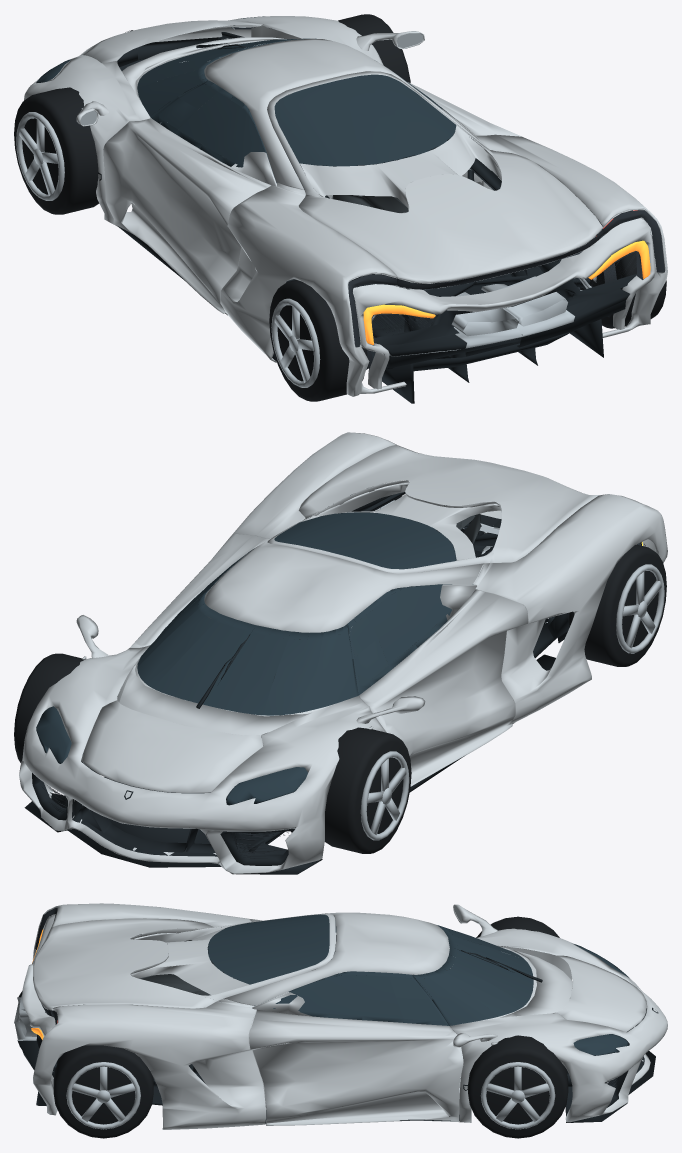
The model's file is sportscar-hero.glb.
3 renders of one model, top to bottom at view 1: azimuth 30°, elevation 25°; view 2: azimuth 150°, elevation 25°; view 3: azimuth 270°, elevation 25°, orthographic. The views are drawn at different scales.
Visible parts, largest first — view 1: Paint, Glass, Carbon, Rubber, Rubber.001, Metal, Trim, Metal.001, Metal.002, Rubber.002, Signal, Rubber.003 (+1 smaller); view 2: Paint, Glass, Carbon, Rubber, Rubber.001, Metal.002, Metal.001, Rubber.002, Trim; view 3: Paint, Glass, Rubber.002, Rubber.003, Carbon, Metal.003, Metal.004, Rubber, Metal, Interior, Trim.
Boxes of the visible parts, box(x1,y1,x2,y2) form: Paint: box(24, 16, 667, 396); Glass: box(36, 16, 456, 182); Carbon: box(98, 30, 639, 403); Rubber: box(14, 87, 105, 214); Rubber.001: box(269, 280, 367, 401); Metal: box(80, 25, 596, 356); Trim: box(108, 27, 664, 369); Metal.001: box(16, 112, 64, 200); Metal.002: box(271, 298, 320, 387); Rubber.002: box(338, 14, 410, 82); Signal: box(363, 240, 650, 344); Rubber.003: box(580, 210, 666, 328); Paint: box(19, 432, 667, 874); Glass: box(36, 512, 473, 805); Carbon: box(24, 492, 569, 874); Rubber: box(324, 727, 411, 853); Rubber.001: box(569, 544, 666, 666); Metal.002: box(616, 564, 664, 653); Metal.001: box(360, 751, 409, 840); Rubber.002: box(14, 653, 100, 762); Trim: box(42, 488, 645, 858); Paint: box(22, 903, 667, 1129); Glass: box(207, 914, 629, 1055); Rubber.002: box(468, 1035, 568, 1138); Rubber.003: box(53, 1045, 153, 1138); Carbon: box(18, 910, 658, 1123); Metal.003: box(480, 1062, 555, 1129); Metal.004: box(66, 1062, 140, 1129); Rubber: box(476, 916, 559, 949); Metal: box(14, 905, 461, 1071); Interior: box(134, 944, 457, 1013); Trim: box(35, 907, 618, 1087).
Bounding box in the file's own units: 2.15 × 1.02 × 4.28.
